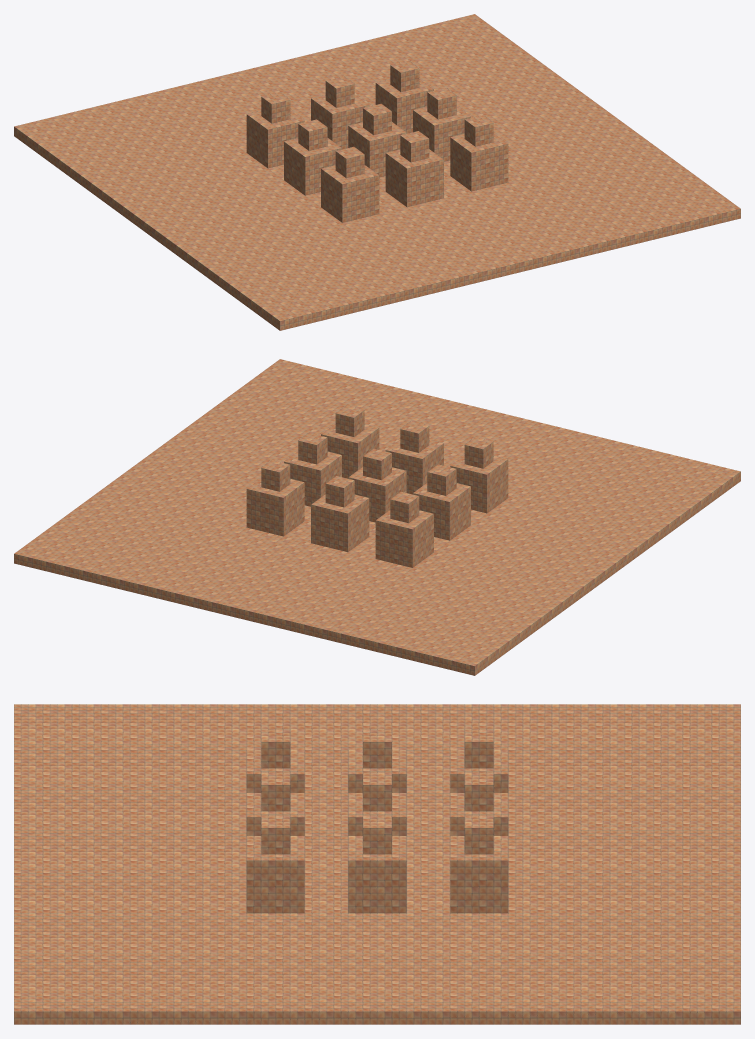
3 renders of one model, top to bottom at view 1: azimuth 30°, elevation 25°; view 2: azimuth 150°, elevation 25°; view 3: azimuth 270°, elevation 25°, orthographic. The views are drawn at different scales.
Visible parts, largest first — view 1: map; view 2: map; view 3: map.
Part boxes in pixels (x1,y1,x2,y2): map: (14, 14, 740, 330); map: (14, 359, 740, 675); map: (14, 704, 740, 1024).
Size of the model in its own units: 500 by 70 by 500.
1 material, 1 textured.
